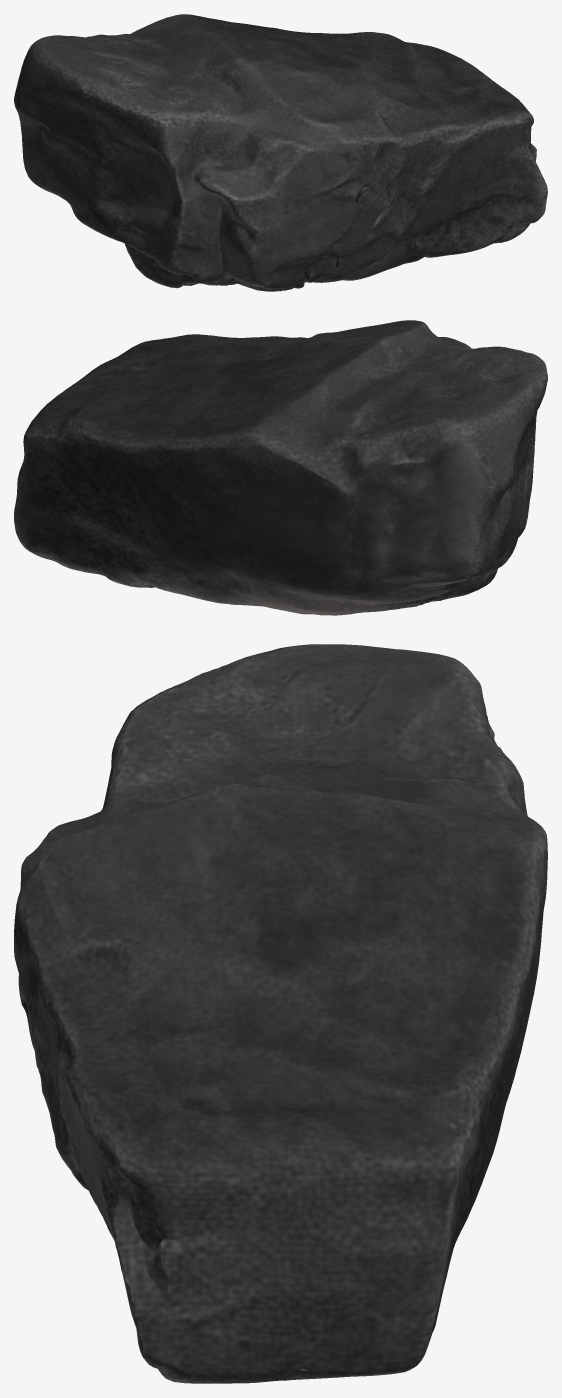
3 views of the same model, one above another, from view 1: azimuth 30°, elevation 25°; view 2: azimuth 150°, elevation 25°; view 3: azimuth 270°, elevation 25° (orthographic). The views are drawn at different scales.
Parts seen in each view (by area): view 1: world; view 2: world; view 3: world.
Part boxes in pixels (box(x1,y1,x2,y2)): world: box(14, 14, 547, 291); world: box(14, 320, 547, 615); world: box(14, 644, 547, 1383).
Bounding box in the file's own units: 2.5 × 1.26 × 1.52.
1 material, 1 textured.
